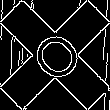O_SE: (21, 22, 89, 88)
